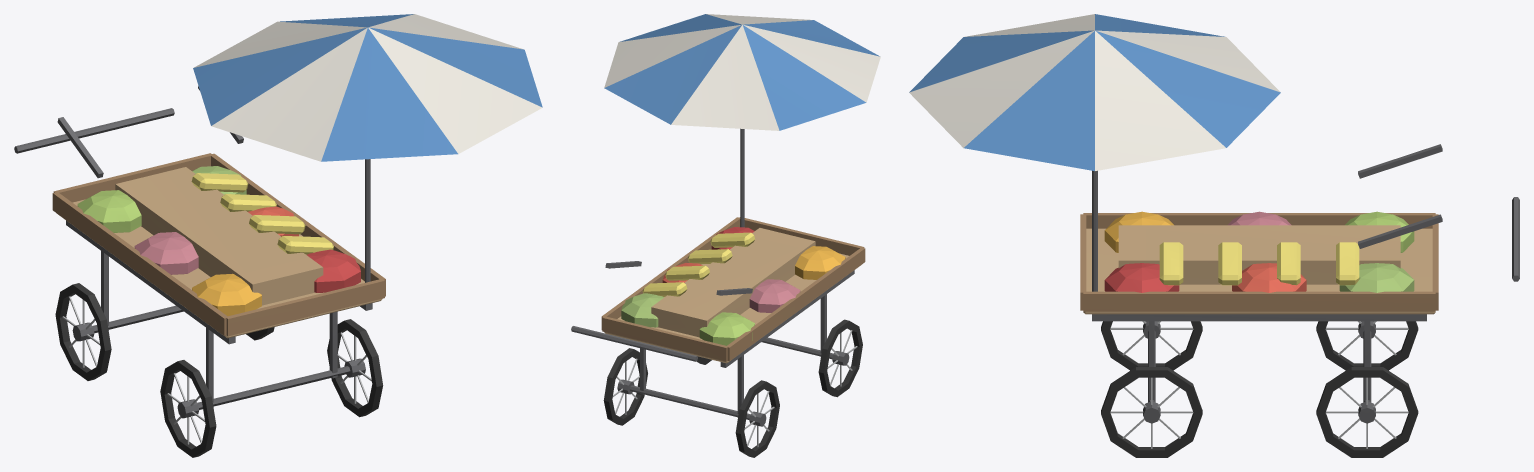
File: pushcart.glb
3 views of the same model, side by side, from view 1: azimuth 30°, elevation 25°; view 2: azimuth 150°, elevation 25°; view 3: azimuth 270°, elevation 25° (orthographic). The views are drawn at different scales.
Visible parts, largest first — view 1: pushcart; view 2: pushcart; view 3: pushcart.
Boxes of the visible parts, x1=… form: pushcart: x1=14, y1=14, x2=542, y2=457; pushcart: x1=571, y1=14, x2=880, y2=457; pushcart: x1=909, y1=14, x2=1519, y2=457.
Bounding box in the file's own units: 1.91 × 2.36 × 3.12.
